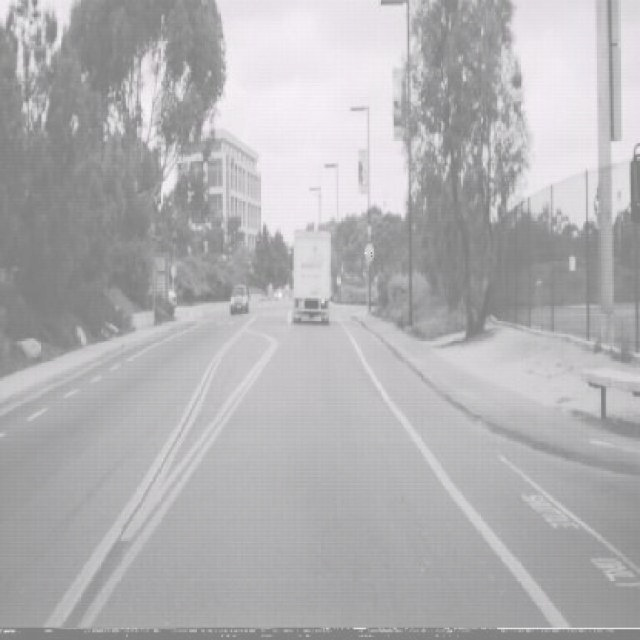stop: (365, 242, 374, 262)
